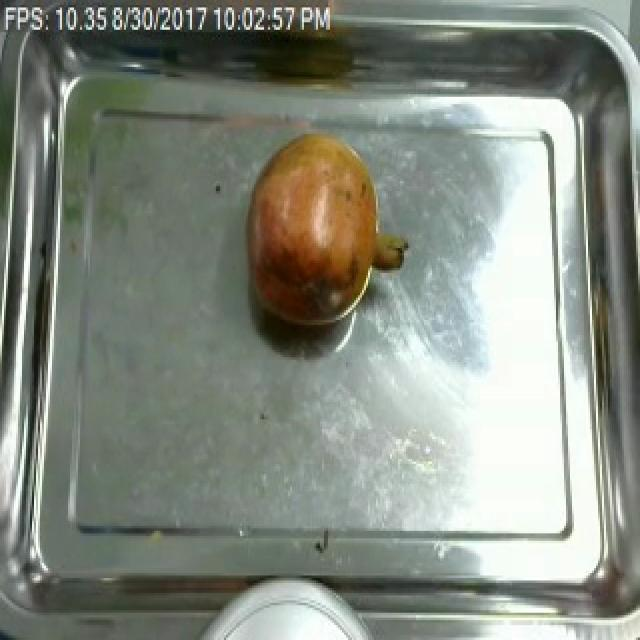fruit: (238, 119, 420, 337)
